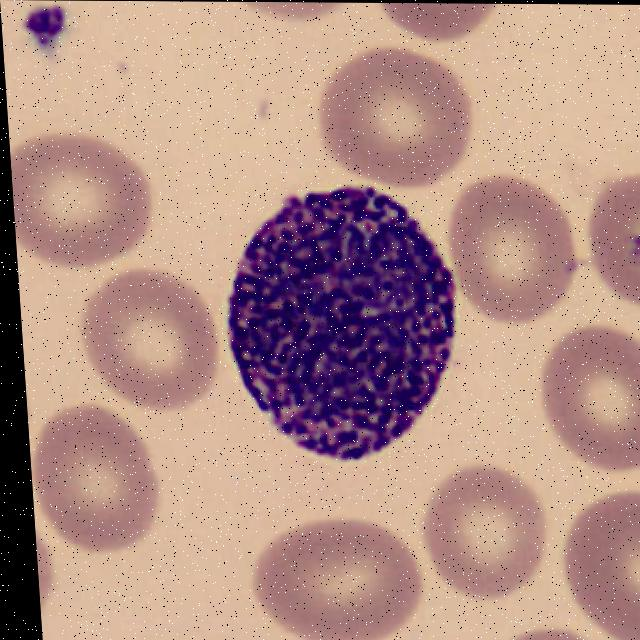basophil: (205, 181, 475, 473)
platelets: (16, 1, 75, 55)
rbc: (28, 380, 164, 576), (230, 512, 430, 640), (312, 48, 501, 179), (69, 264, 226, 413), (9, 129, 170, 267), (438, 172, 584, 320), (409, 461, 556, 603), (533, 325, 640, 468), (555, 480, 640, 640), (579, 153, 640, 346), (360, 3, 510, 46), (220, 2, 362, 32), (493, 620, 597, 640)
